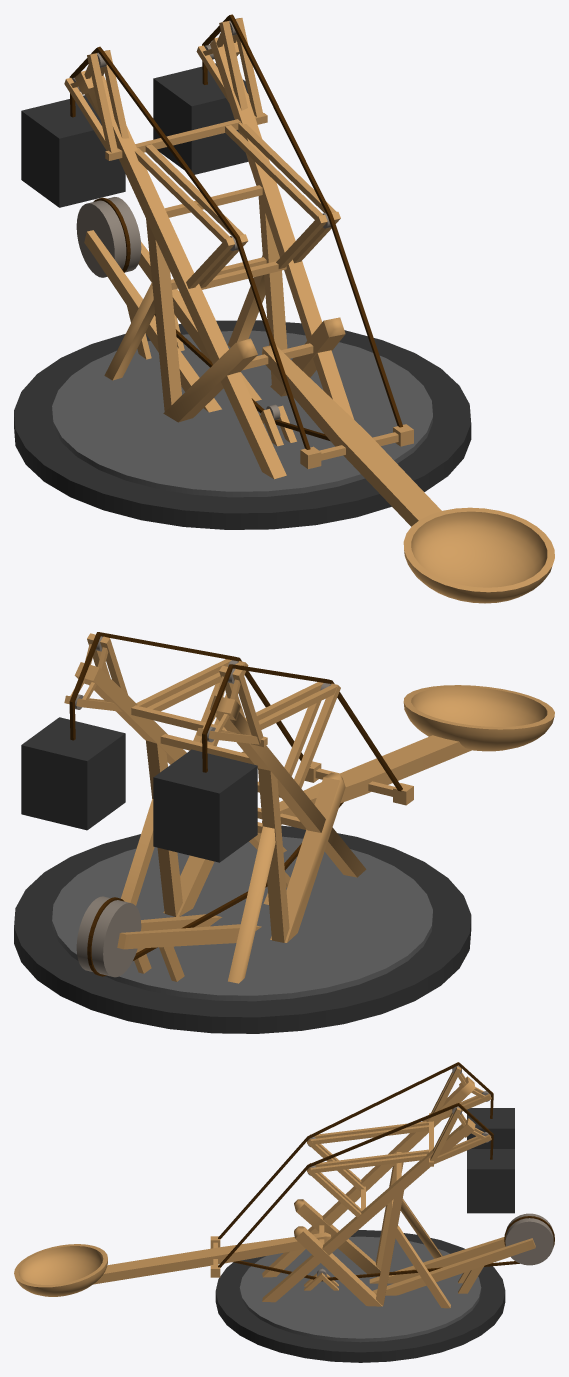
File: Catapult.fbx
3 renders of one model, top to bottom at view 1: azimuth 30°, elevation 25°; view 2: azimuth 150°, elevation 25°; view 3: azimuth 270°, elevation 25°, orthographic. The views are drawn at different scales.
Parts seen in each view (by area): view 1: Structure, Base, Arm, Weights, Rope 1, Wheel 1, Rope 2; view 2: Structure, Base, Weights, Arm, Rope 1, Wheel 1, Rope 2; view 3: Structure, Base, Arm, Weights, Rope 1, Wheel 1, Rope 2.
Part boxes in pixels (left/top/right/bottom): Structure: left=52, top=18, right=432, bottom=497; Base: left=14, top=320, right=471, bottom=529; Arm: left=242, top=343, right=554, bottom=603; Weights: left=21, top=63, right=248, bottom=207; Rope 1: left=69, top=14, right=402, bottom=449; Wheel 1: left=76, top=197, right=141, bottom=277; Rope 2: left=93, top=197, right=330, bottom=441; Structure: left=52, top=633, right=432, bottom=1001; Base: left=14, top=825, right=471, bottom=1033; Weights: left=21, top=717, right=257, bottom=862; Arm: left=257, top=685, right=554, bottom=829; Rope 1: left=69, top=632, right=402, bottom=791; Wheel 1: left=76, top=896, right=141, bottom=977; Rope 2: left=87, top=802, right=343, bottom=976; Structure: left=239, top=1062, right=535, bottom=1342; Base: left=215, top=1230, right=505, bottom=1362; Arm: left=14, top=1225, right=331, bottom=1296; Weights: left=467, top=1108, right=514, bottom=1213; Rope 1: left=218, top=1062, right=493, bottom=1267; Wheel 1: left=505, top=1213, right=553, bottom=1265; Rope 2: left=232, top=1216, right=554, bottom=1281.
Size of the model in its own units: 6000 by 11199 by 4996.
